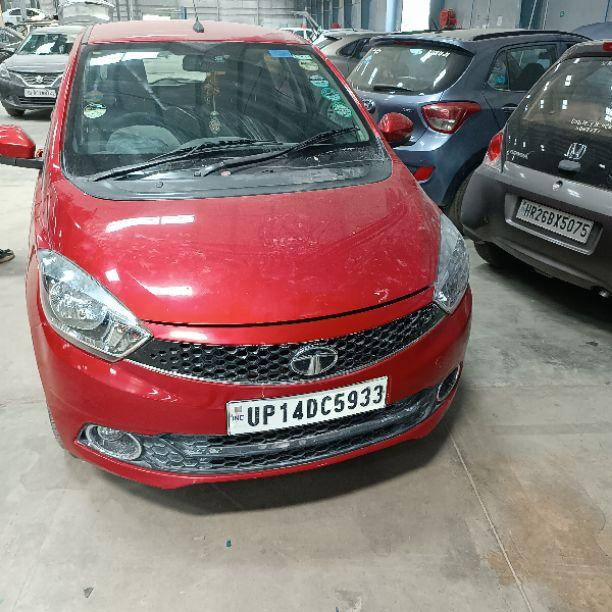license_plate: (224, 374, 389, 437), (513, 196, 595, 246)
